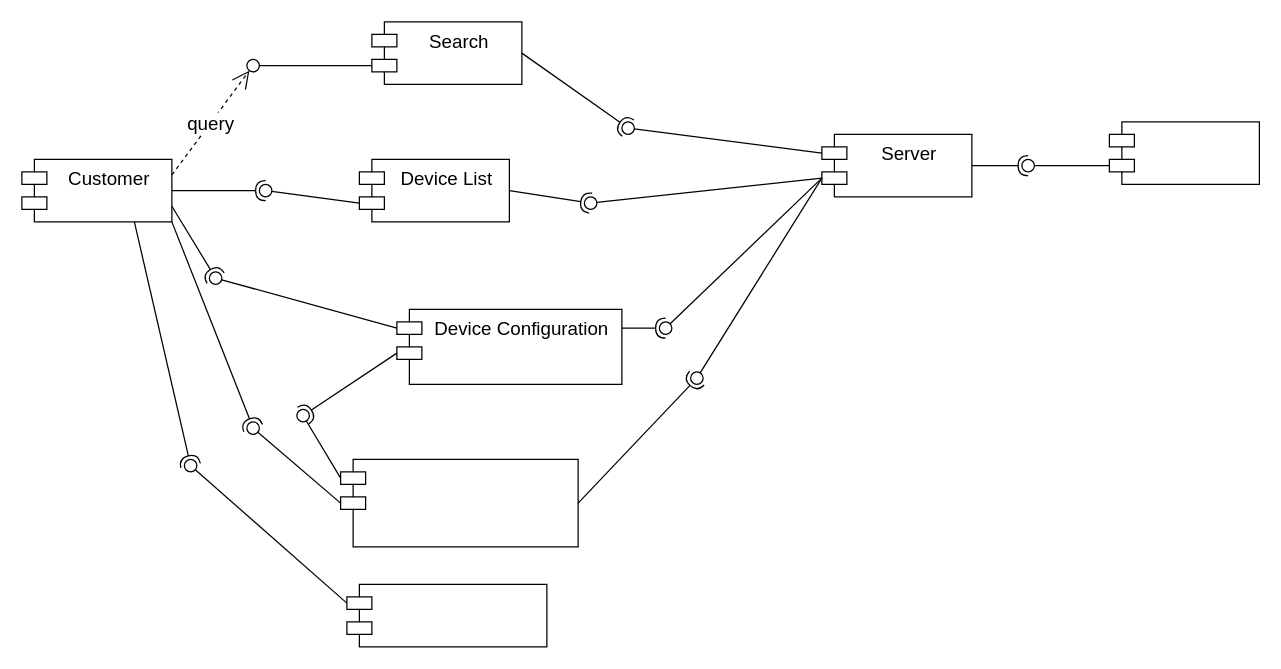
The diagram is 1281 pixels wide and 669 high, and some of its shapes have lost their labels. The box of each missing label's shape, as (x1, y1, x2, y2) in pixels:
Database: (1108, 121, 1259, 184)
Shopping Bag: (339, 458, 578, 547)
User Authentication: (346, 583, 547, 647)
